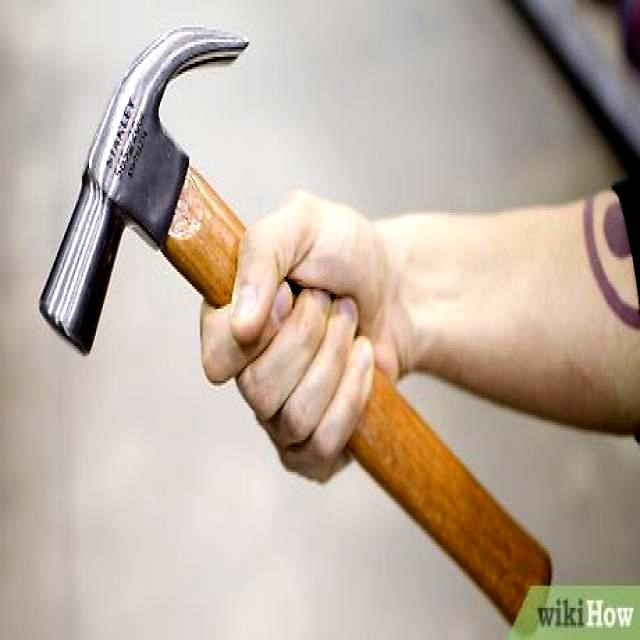hammer: (32, 20, 556, 640)
